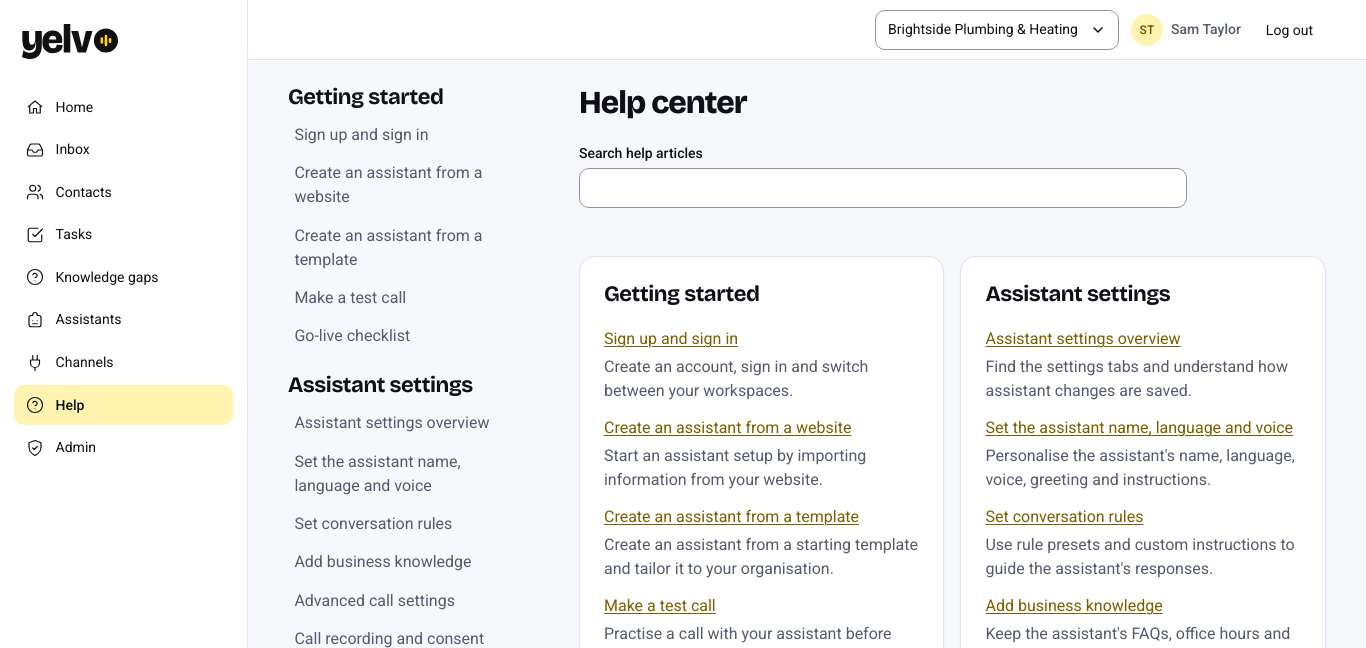
Test: help centre pages › filters search results and reports when there are no matches
Type "gmail" into the search field labelled "Search help articles".
click(883, 188); type("gmail")  # box [579,168,1187,208]
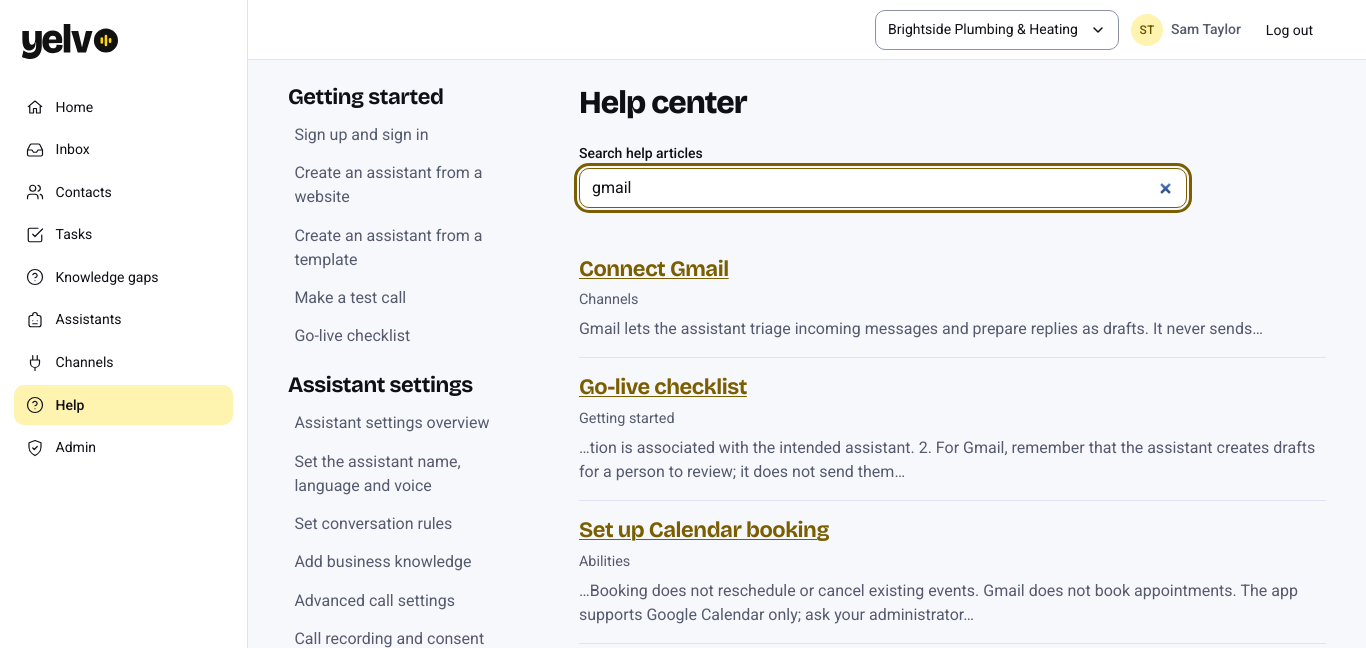
Check: the link "Connect Gmail" below "Search help articles" is shown, box [579,256,729,282]
Replace the text in the search field labelled "Search help articles" with "not-a-real-help-topic" at [883, 188], box [579,168,1187,208]
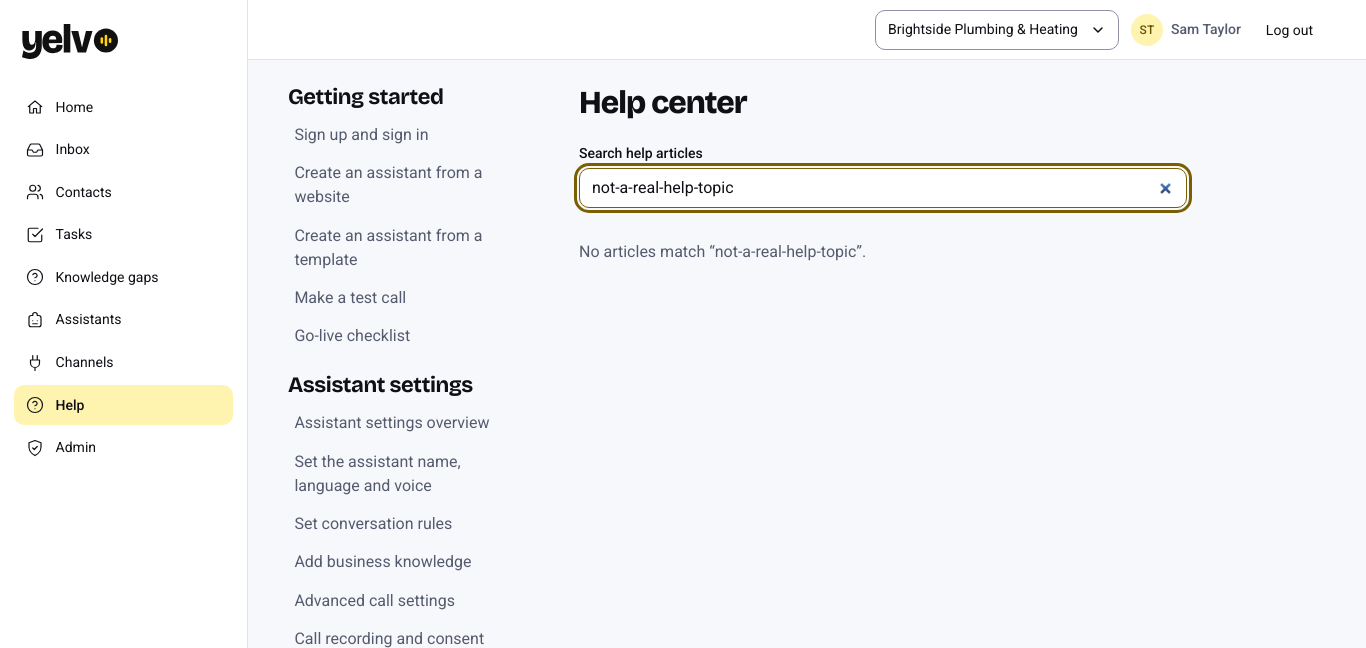
Check: the text "No articles match “not-a-real-help-topic”." is shown, box [579,242,866,261]
